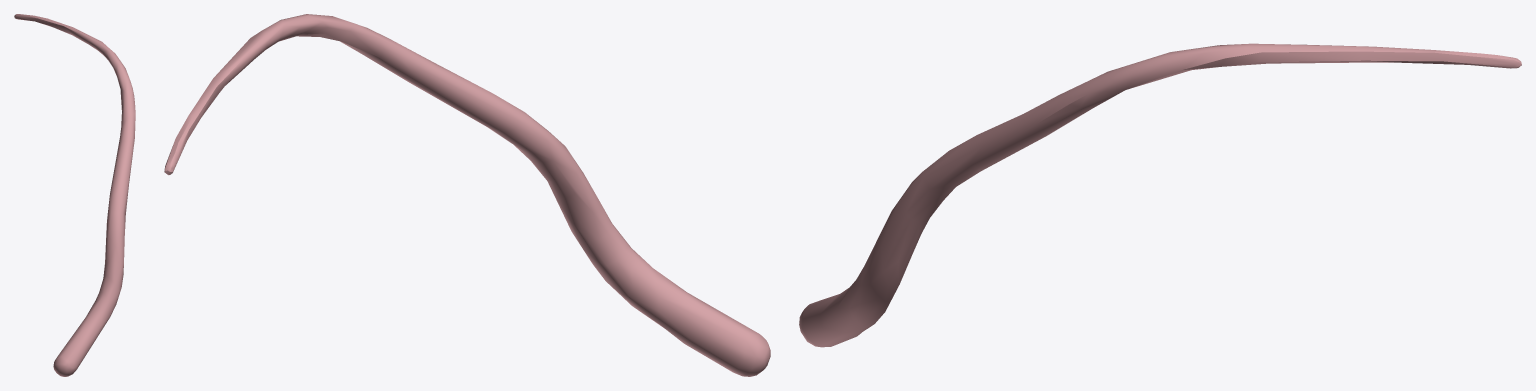
The model's file is fma71889_fj5812.glb.
3 views of the same model, side by side, from view 1: azimuth 30°, elevation 25°; view 2: azimuth 150°, elevation 25°; view 3: azimuth 270°, elevation 25° (orthographic). The views are drawn at different scales.
Visible parts, largest first — view 1: FMA71889_FJ5812; view 2: FMA71889_FJ5812; view 3: FMA71889_FJ5812.
Part boxes in pixels (bbox=[...]): FMA71889_FJ5812: bbox=[14, 14, 135, 376]; FMA71889_FJ5812: bbox=[164, 14, 770, 376]; FMA71889_FJ5812: bbox=[799, 43, 1521, 347].
Bounding box in the file's own units: 0.0191 × 0.0254 × 0.0379.
